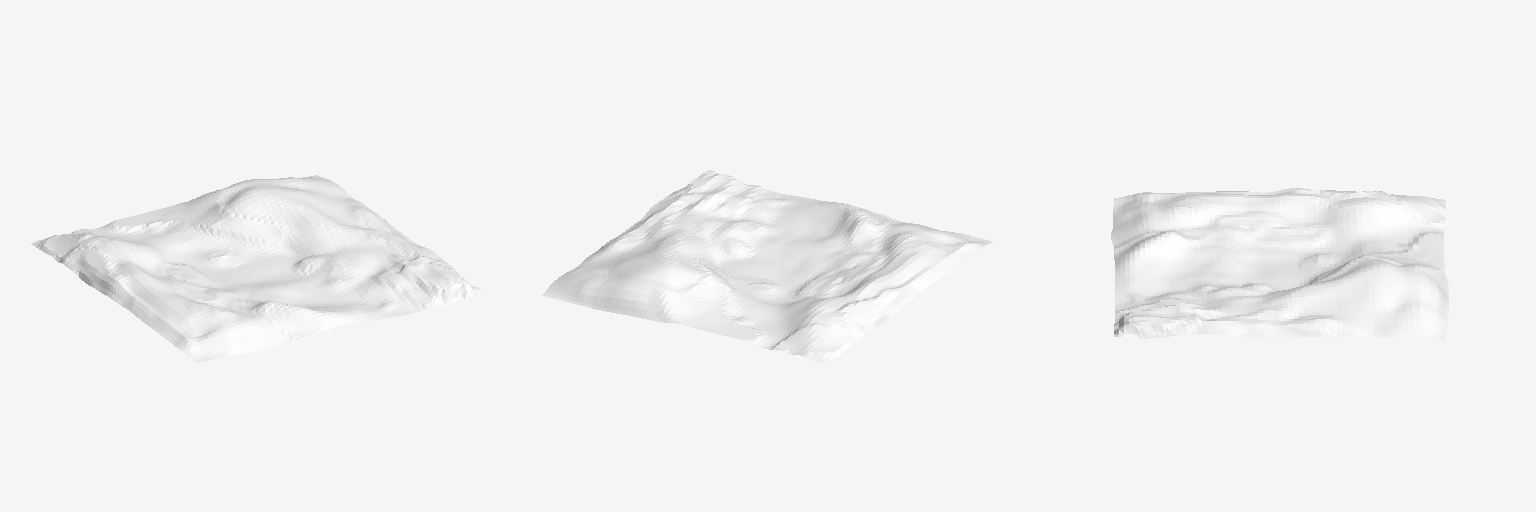
File: terra.obj
The picture shows the model from 3 angles: view 1: azimuth 30°, elevation 25°; view 2: azimuth 150°, elevation 25°; view 3: azimuth 270°, elevation 25°; orthographic projection.
Visible parts, largest first — view 1: Plane_Plane.002; view 2: Plane_Plane.002; view 3: Plane_Plane.002.
Part boxes in pixels (x1,y1,x2,y2): Plane_Plane.002: (31,175,482,362); Plane_Plane.002: (542,170,992,364); Plane_Plane.002: (1111,188,1448,340).
Size of the model in its own units: 63.5 by 6.28 by 63.96.